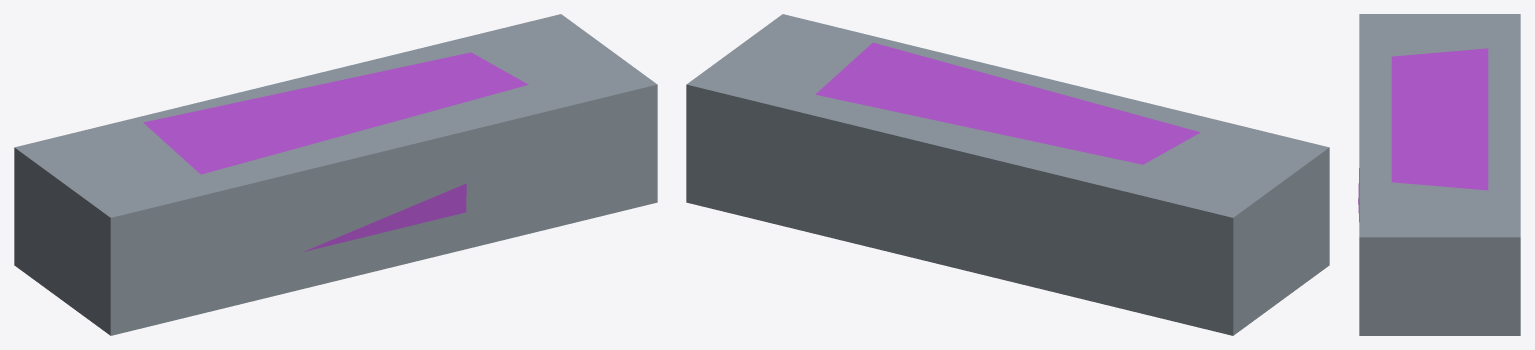
The model's file is CH_AttractorArk_LOD1.glb.
3 renders of one model, left to right at view 1: azimuth 30°, elevation 25°; view 2: azimuth 150°, elevation 25°; view 3: azimuth 270°, elevation 25°, orthographic. The views are drawn at different scales.
Parts seen in each view (by area): view 1: EntranceGate; view 2: EntranceGate; view 3: EntranceGate.
Part boxes in pixels (x1,y1,x2,y2): EntranceGate: (14,14,657,335); EntranceGate: (686,14,1329,335); EntranceGate: (1358,14,1520,335).
Size of the model in its own units: 1900 by 433 by 583.
